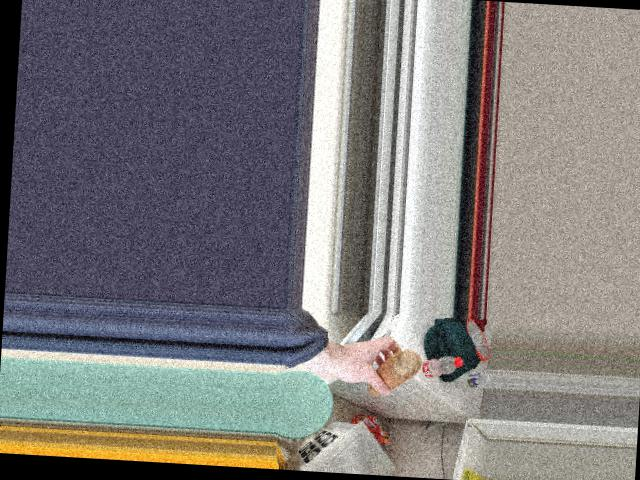sweet_potato: (369, 351, 422, 400)
